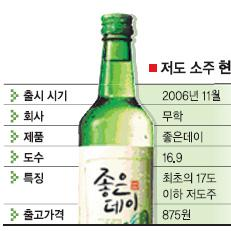soju: (77, 11, 156, 228)
